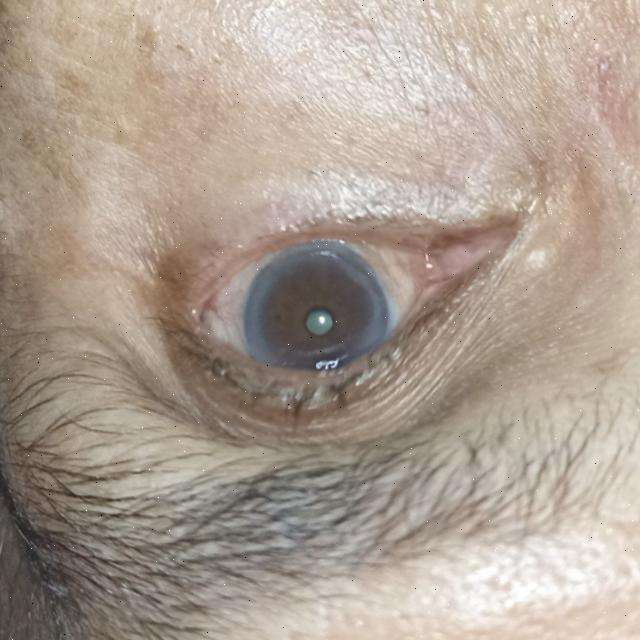Cataract: (244, 245, 391, 394)
